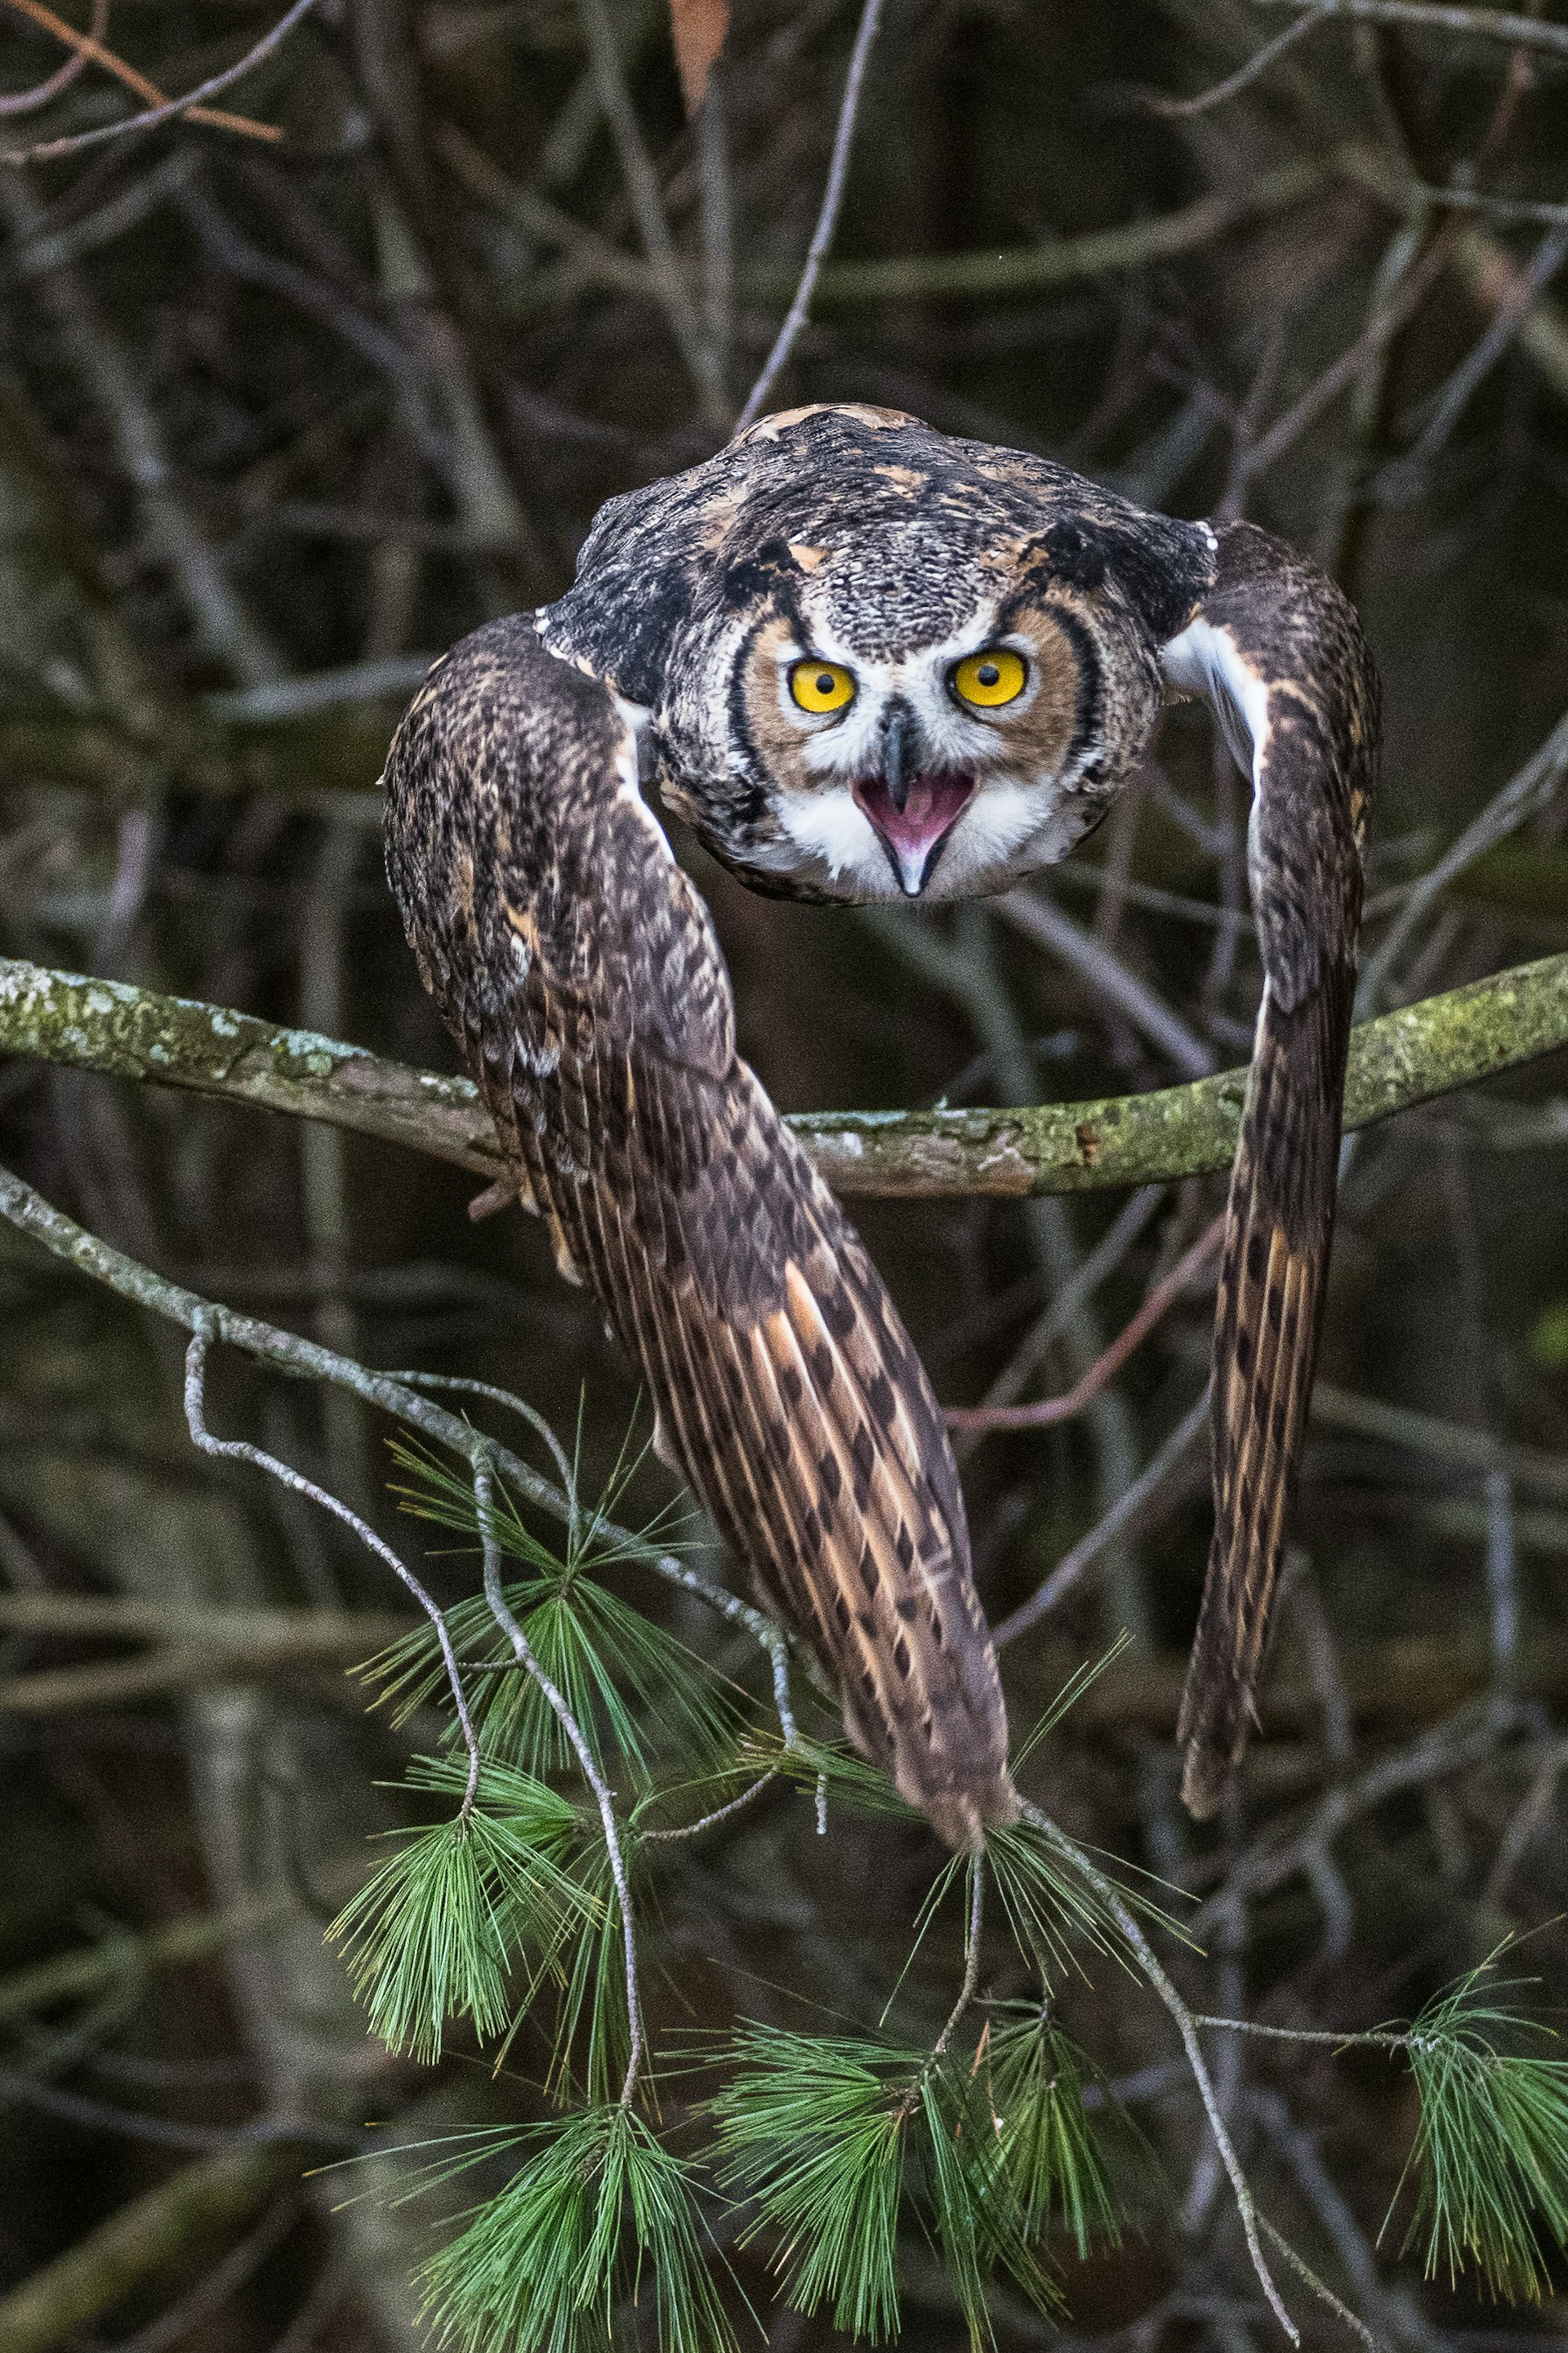eagle: (346, 369, 1461, 1881)
